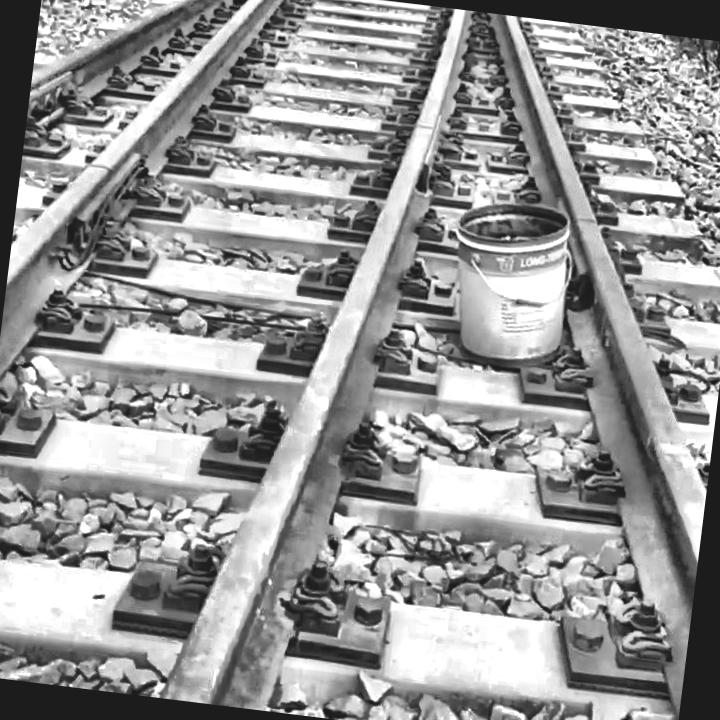Trash: (448, 186, 596, 377)
